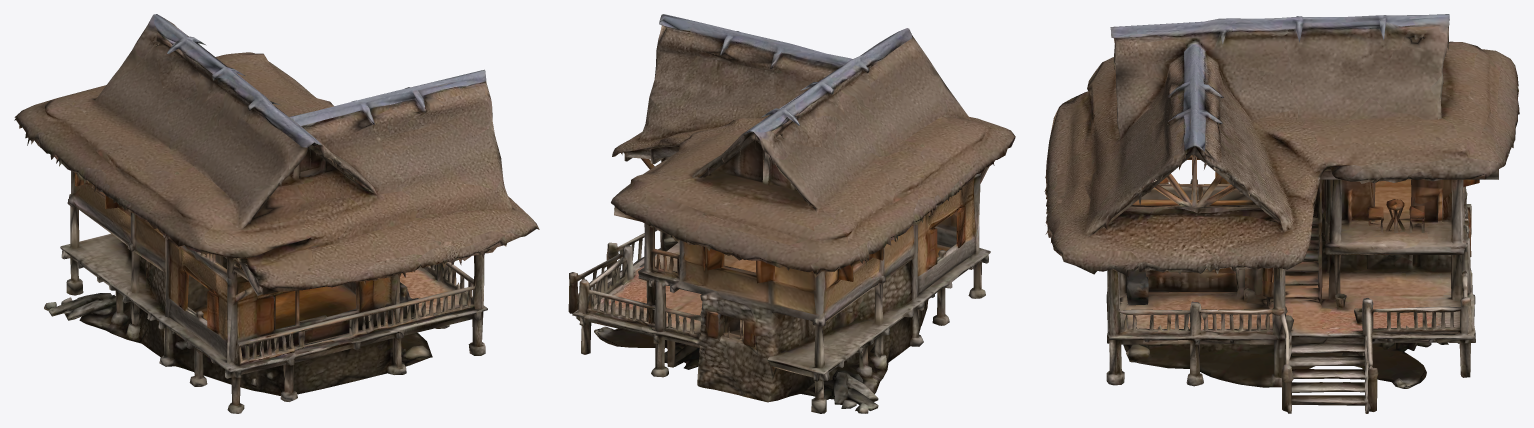
The model's file is wooden.glb.
3 views of the same model, side by side, from view 1: azimuth 30°, elevation 25°; view 2: azimuth 150°, elevation 25°; view 3: azimuth 270°, elevation 25° (orthographic). The views are drawn at different scales.
Visible parts, largest first — view 1: Object_4; view 2: Object_4; view 3: Object_4.
Part boxes in pixels (box(x1,y1,x2,y2)): Object_4: box(14, 14, 539, 413); Object_4: box(568, 14, 1015, 413); Object_4: box(1044, 14, 1519, 413).
Bounding box in the file's own units: 0.9011 × 0.6558 × 0.9994.
Materials: 1 (1 with a texture image).
